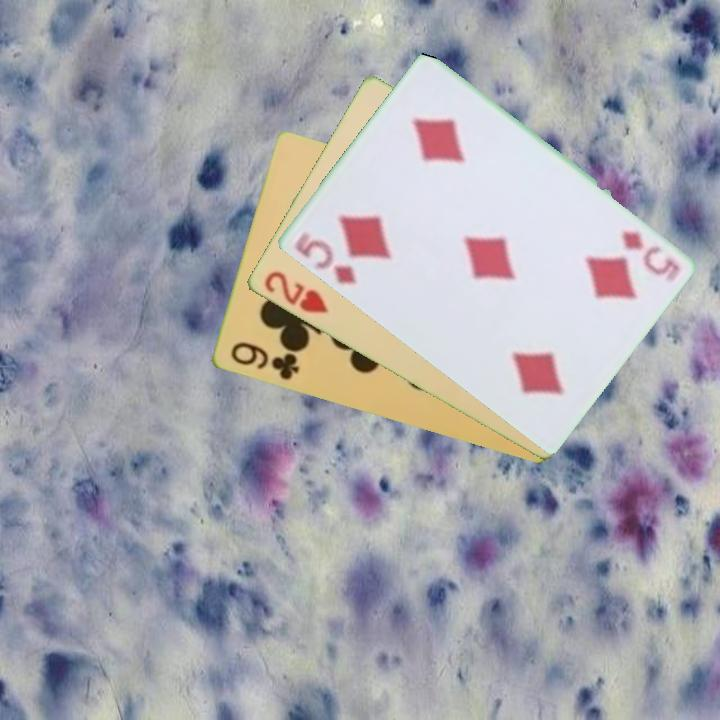2h: (260, 267, 332, 317)
5d: (290, 228, 360, 288), (617, 227, 682, 278)
9c: (226, 338, 302, 383)
